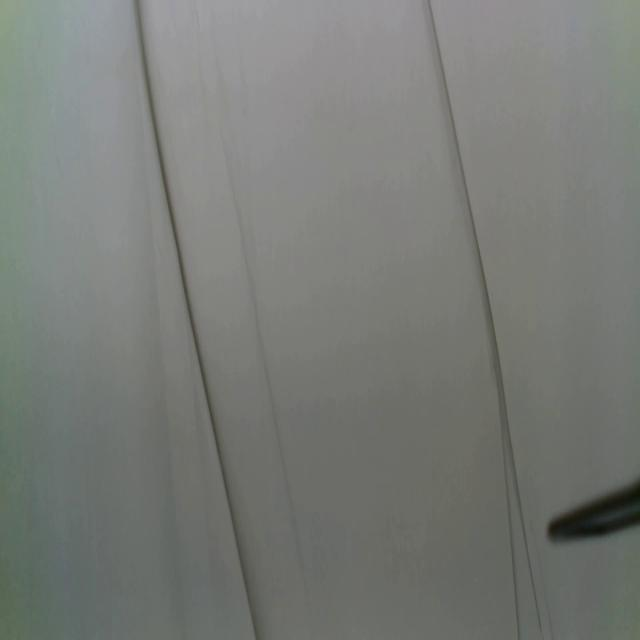crease: (134, 1, 259, 640), (427, 0, 544, 637)
